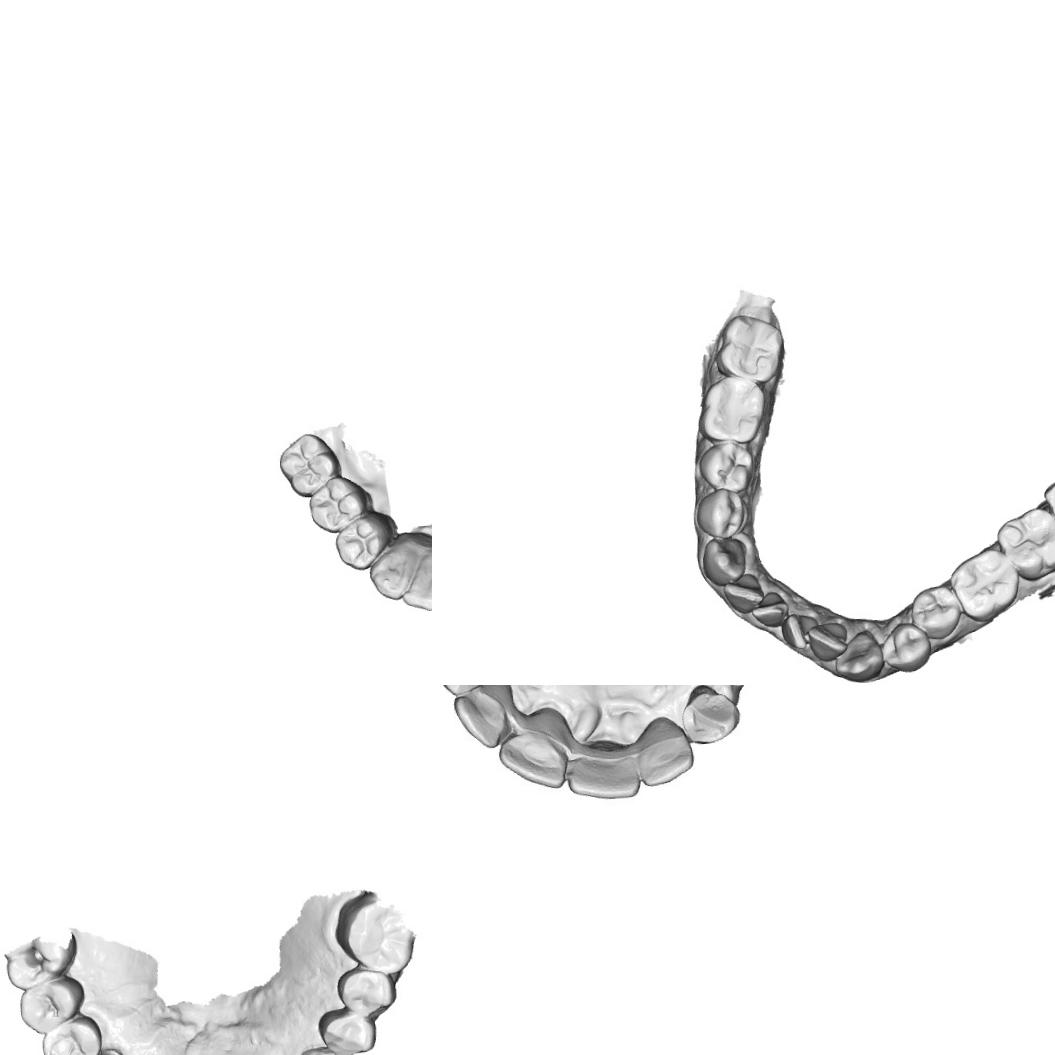canine: (366, 539, 420, 602), (832, 628, 884, 684), (686, 685, 739, 737), (700, 535, 748, 587)
incisor: (498, 708, 568, 784), (566, 741, 646, 805), (632, 713, 698, 790), (452, 685, 515, 751), (398, 552, 432, 612), (721, 570, 765, 614), (807, 620, 848, 662), (748, 588, 790, 628), (779, 612, 819, 650)
molar: (332, 887, 417, 978), (712, 311, 784, 385), (696, 373, 766, 445), (2, 930, 79, 992), (994, 505, 1055, 581), (276, 430, 342, 497), (306, 473, 371, 534)
premolar: (947, 546, 1022, 622), (17, 974, 88, 1036), (332, 511, 392, 571), (335, 963, 398, 1017), (697, 439, 754, 494), (315, 1005, 377, 1055), (908, 584, 962, 640), (694, 486, 750, 540), (881, 620, 932, 674), (38, 1013, 103, 1055)
